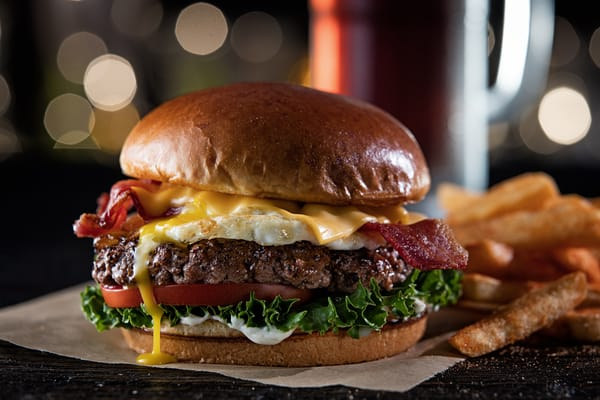soup: (76, 80, 474, 368)
